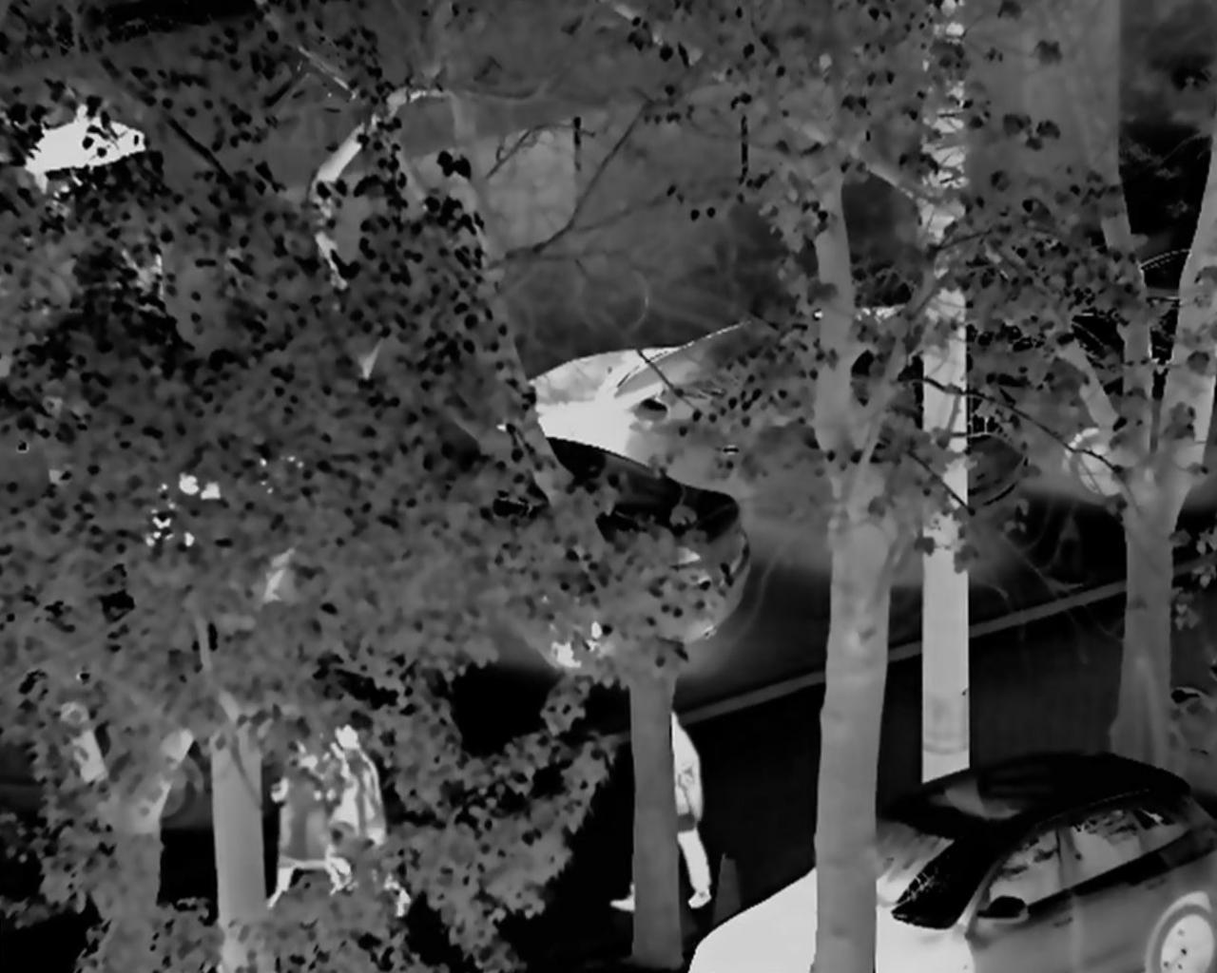person: (615, 708, 724, 926), (323, 726, 412, 944), (264, 731, 338, 913)
